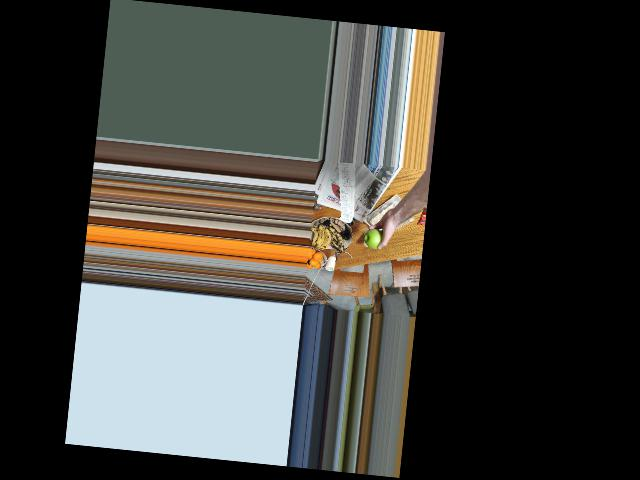apple: (363, 225, 388, 252)
